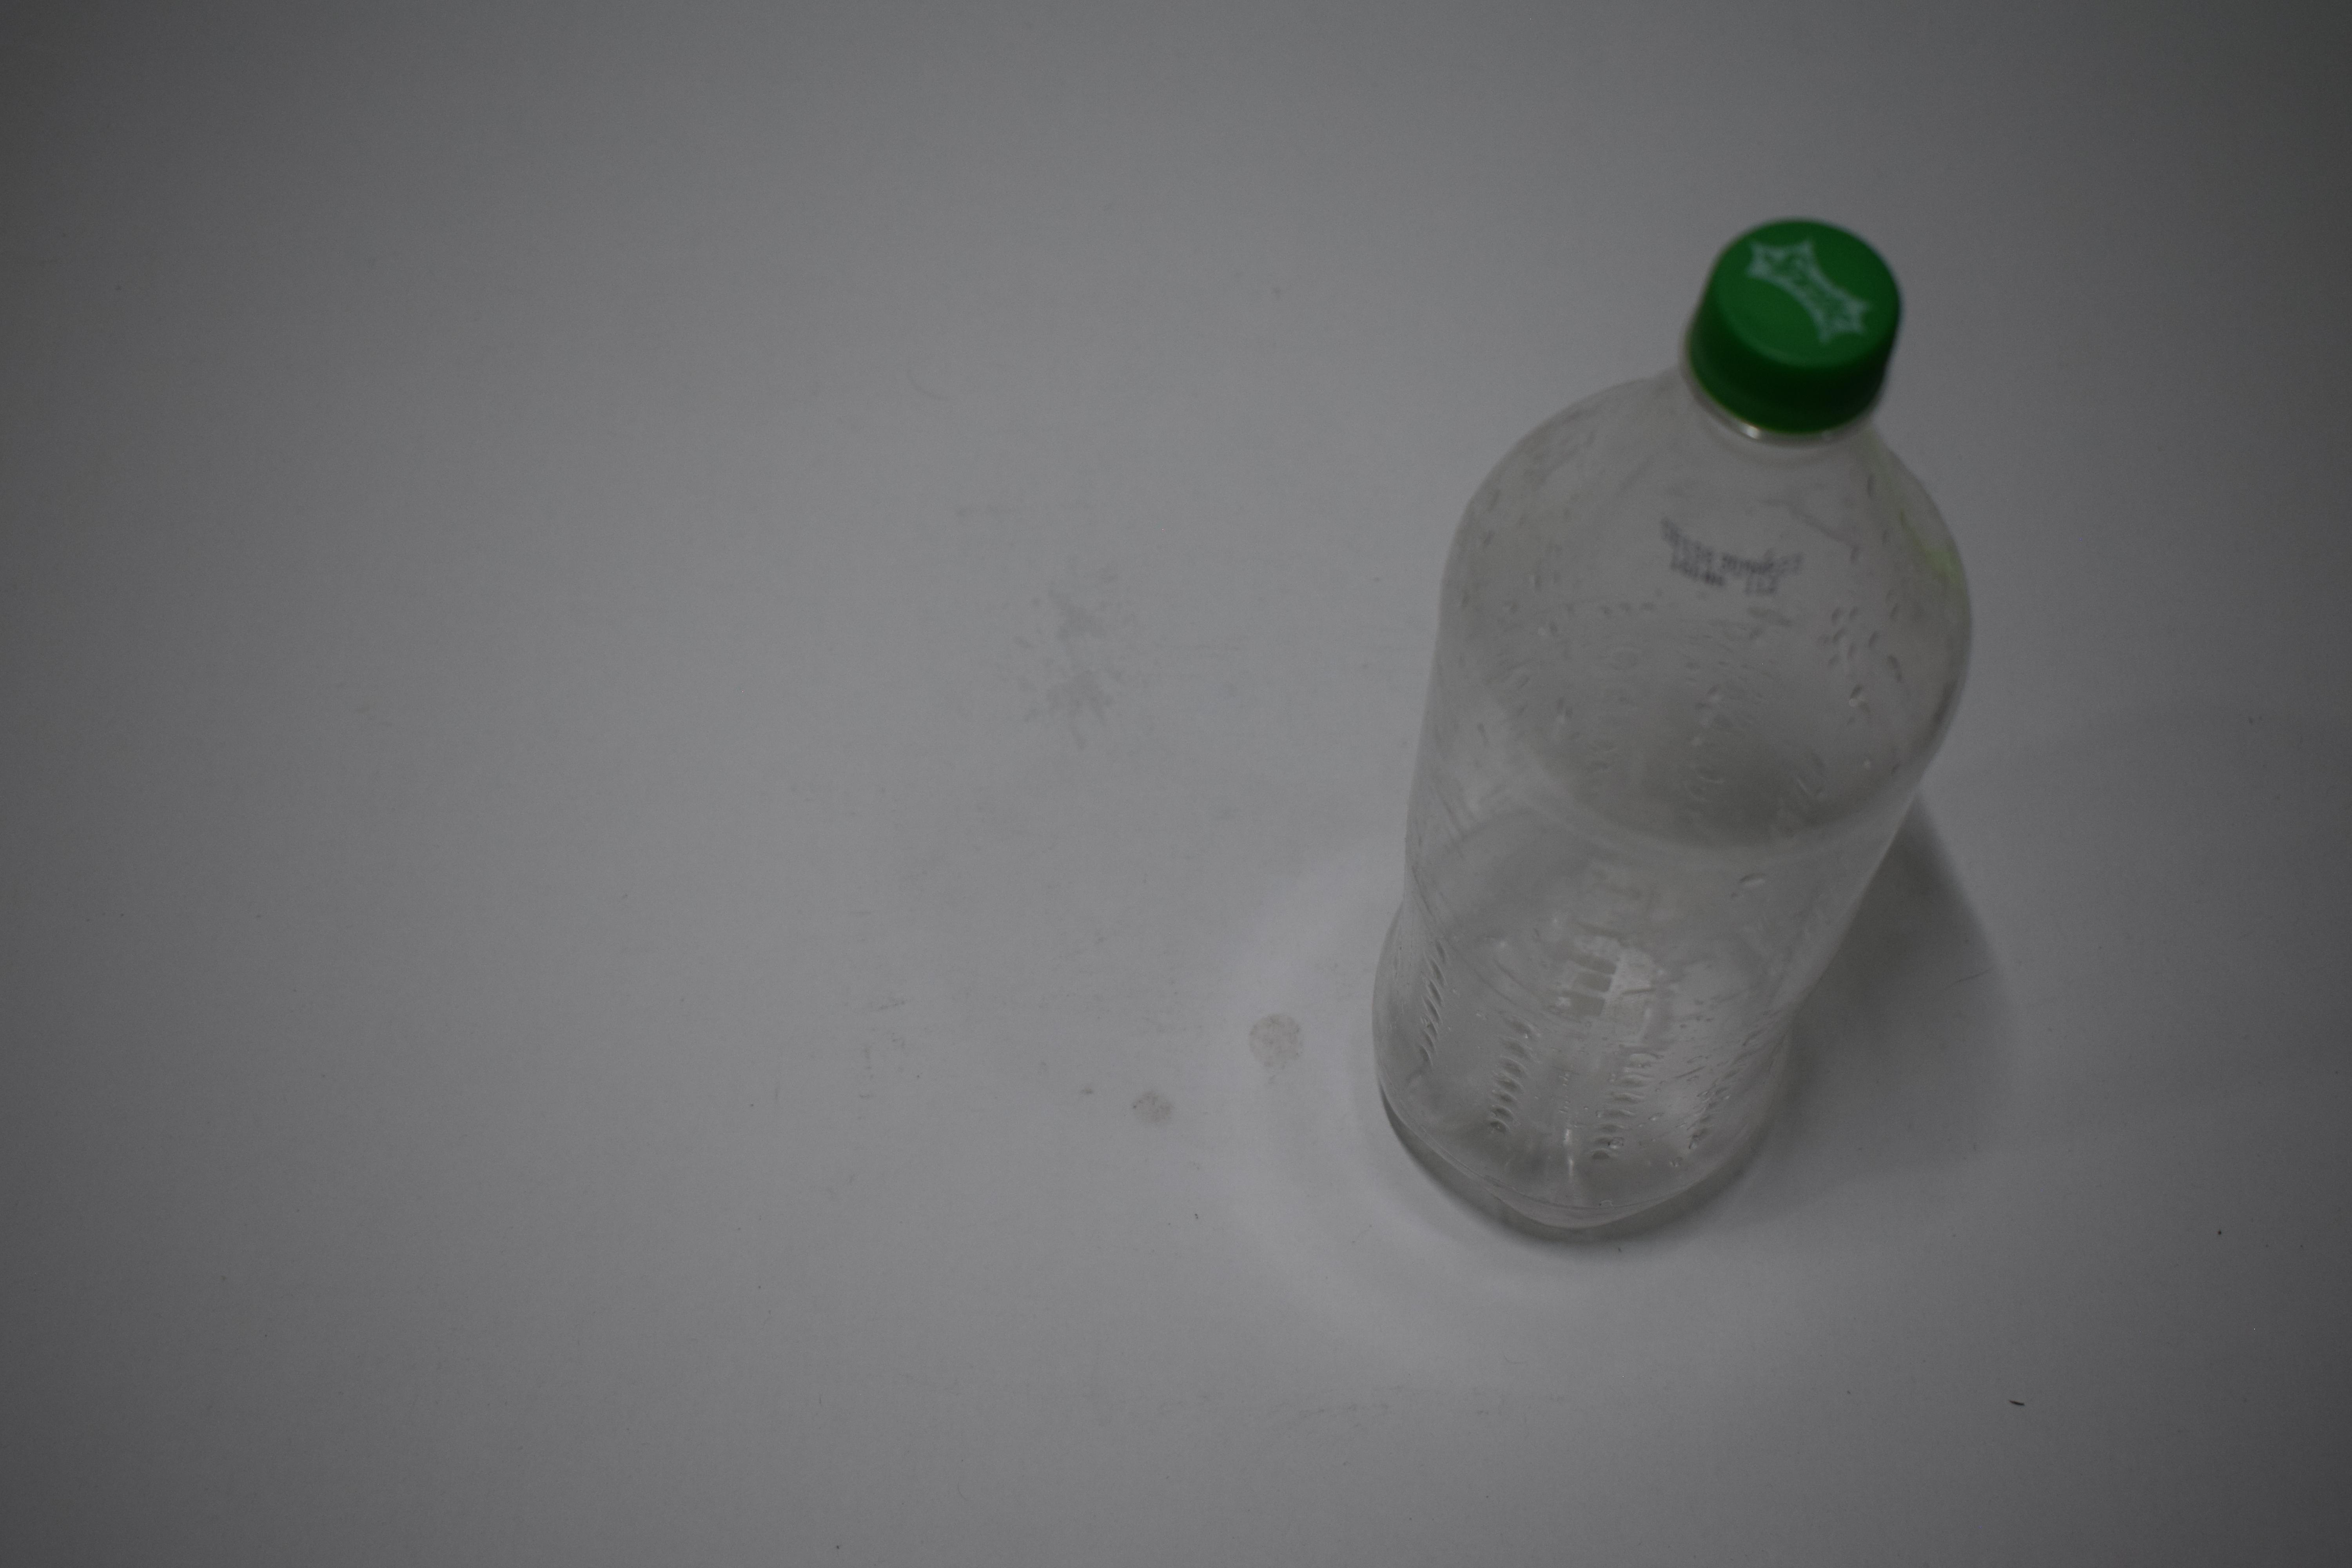bottle: (1369, 208, 1979, 1246)
